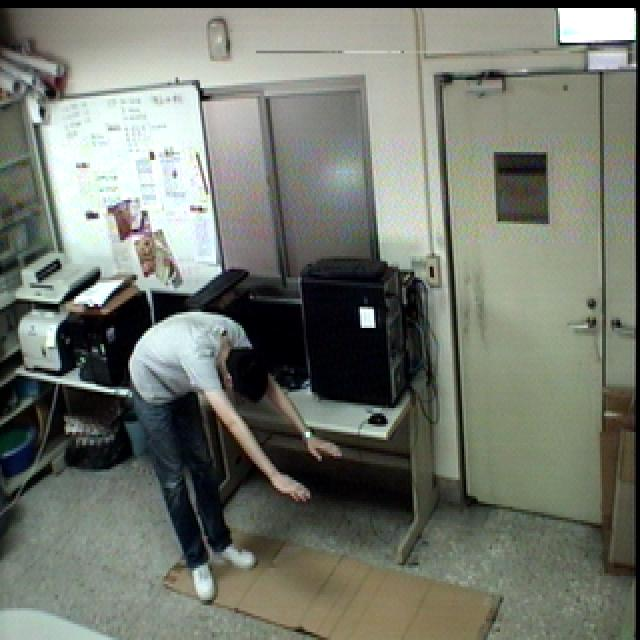bend: (125, 308, 342, 609)
